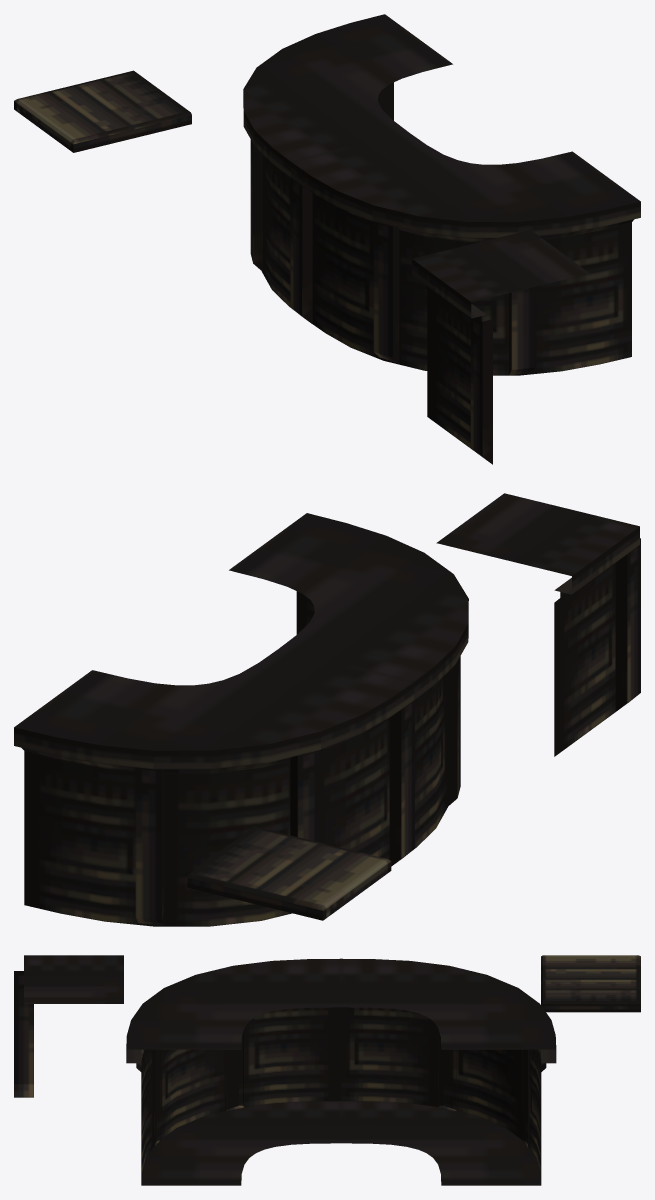
File: EnvObjMD_BarCounter_A_Top_LS.FBX
The picture shows the model from 3 angles, top to bottom: view 1: azimuth 30°, elevation 25°; view 2: azimuth 150°, elevation 25°; view 3: azimuth 270°, elevation 25°; orthographic projection. The views are drawn at different scales.
Visible parts, largest first — view 1: EnvObjMD_BarCounter_A_Top_RS, EnvObjMD_BarCounter_A_Top_LS, EnvObjMD_BarCounter_A_Top_Loop, EnvObjMD_BarCounter_A_Bottom_TopBoard; view 2: EnvObjMD_BarCounter_A_Top_LS, EnvObjMD_BarCounter_A_Top_RS, EnvObjMD_BarCounter_A_Top_Loop, EnvObjMD_BarCounter_A_Bottom_TopBoard; view 3: EnvObjMD_BarCounter_A_Top_RS, EnvObjMD_BarCounter_A_Top_LS, EnvObjMD_BarCounter_A_Top_Loop, EnvObjMD_BarCounter_A_Bottom_TopBoard.
Part boxes in pixels (<box>): EnvObjMD_BarCounter_A_Top_RS: <box>291,133,640,375</box>; EnvObjMD_BarCounter_A_Top_LS: <box>243,14,452,323</box>; EnvObjMD_BarCounter_A_Top_Loop: <box>412,230,589,464</box>; EnvObjMD_BarCounter_A_Bottom_TopBoard: <box>14,70,191,152</box>; EnvObjMD_BarCounter_A_Top_LS: <box>14,649,414,926</box>; EnvObjMD_BarCounter_A_Top_RS: <box>229,513,468,849</box>; EnvObjMD_BarCounter_A_Top_Loop: <box>436,493,640,756</box>; EnvObjMD_BarCounter_A_Bottom_TopBoard: <box>187,826,391,920</box>; EnvObjMD_BarCounter_A_Top_RS: <box>126,958,341,1185</box>; EnvObjMD_BarCounter_A_Top_LS: <box>341,958,556,1185</box>; EnvObjMD_BarCounter_A_Top_Loop: <box>14,955,123,1097</box>; EnvObjMD_BarCounter_A_Bottom_TopBoard: <box>541,955,640,1012</box>.
Size of the model in its own units: 311 by 150 by 627.
1 material, 1 textured.
